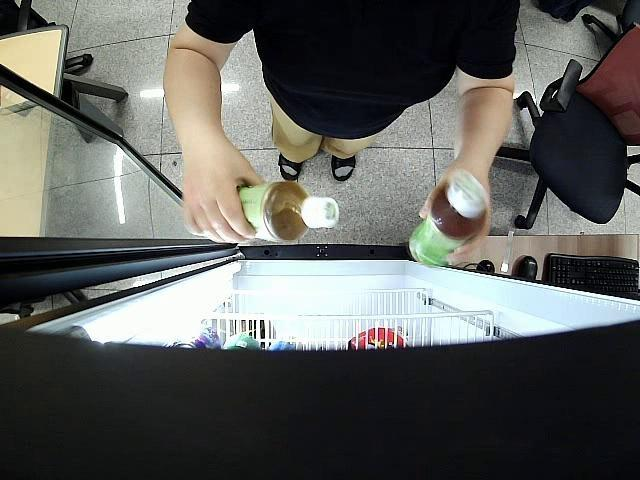19_17cha: (408, 178, 488, 268), (236, 180, 340, 242)
